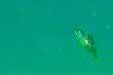mebaru: (66, 21, 98, 57)
